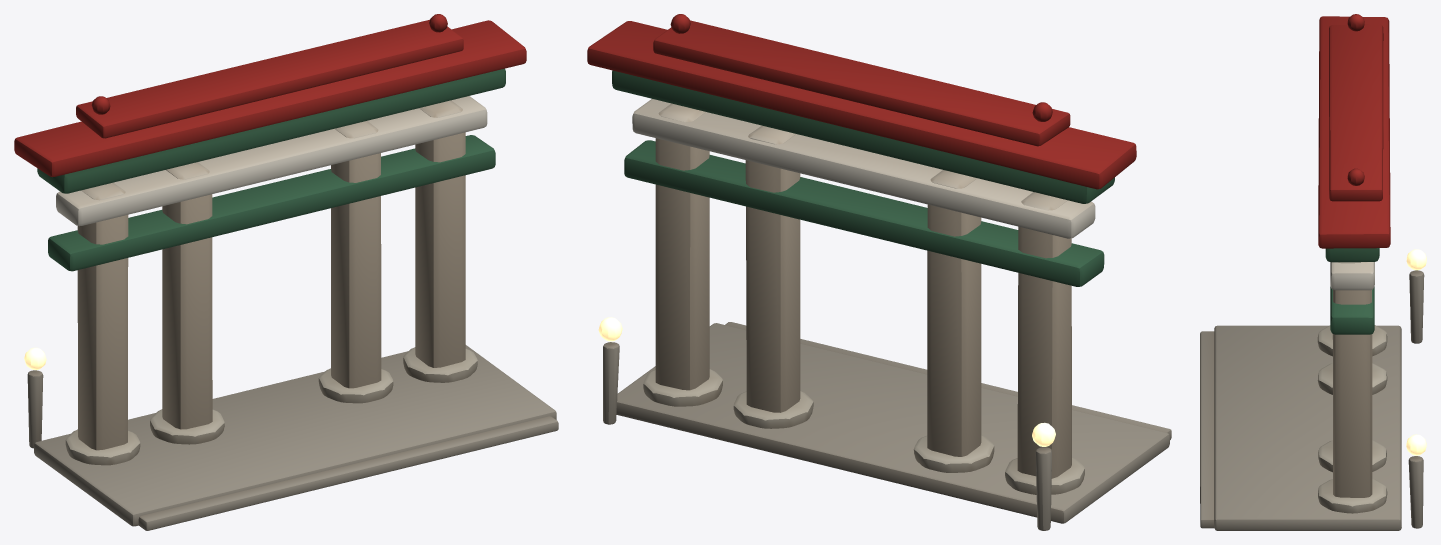
3 views of the same model, side by side, from view 1: azimuth 30°, elevation 25°; view 2: azimuth 150°, elevation 25°; view 3: azimuth 270°, elevation 25° (orthographic). The views are drawn at different scales.
Parts seen in each view (by area): view 1: gate_d12d8712; view 2: gate_d12d8712; view 3: gate_d12d8712.
Boxes of the visible parts, <box> form: gate_d12d8712: <box>14,14,558,530</box>; gate_d12d8712: <box>587,14,1171,530</box>; gate_d12d8712: <box>1200,14,1426,530</box>.
Bounding box in the file's own units: 5.82 × 4.24 × 2.54.
